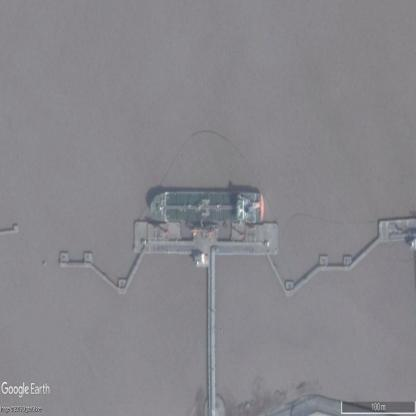ship: (150, 191, 264, 222)
